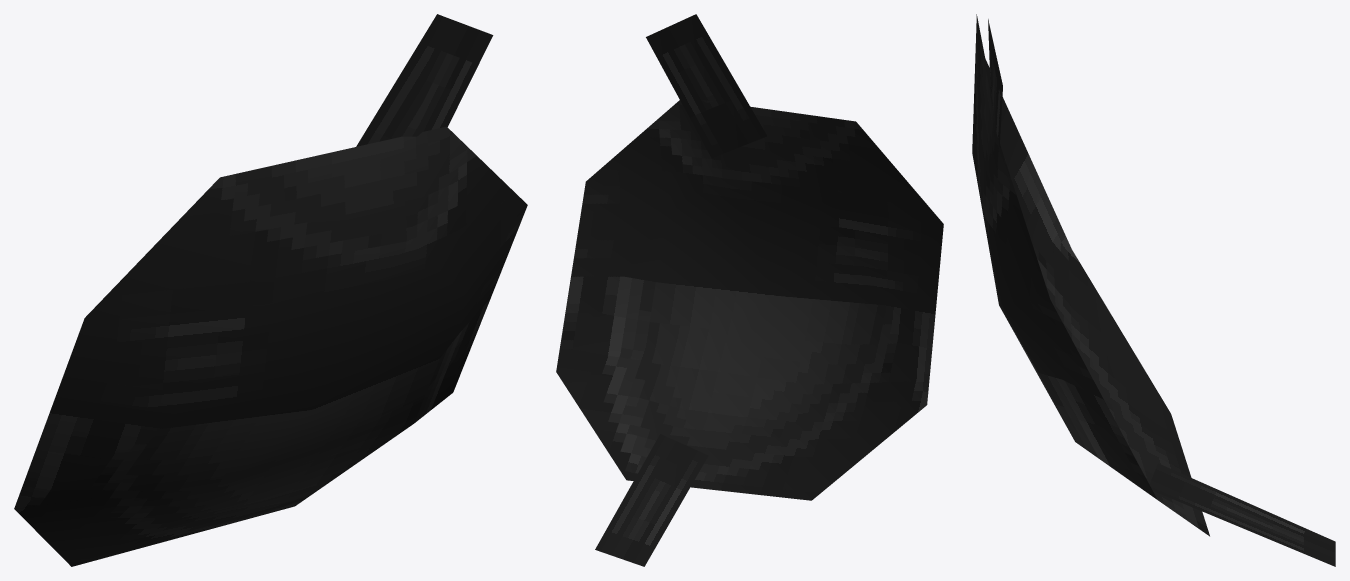
File: acc_patch_eye.dae
The picture shows the model from 3 angles, left to right: view 1: azimuth 30°, elevation 25°; view 2: azimuth 150°, elevation 25°; view 3: azimuth 270°, elevation 25°; orthographic projection. The views are drawn at different scales.
Visible parts, largest first — view 1: acc_patch_eye; view 2: acc_patch_eye; view 3: acc_patch_eye.
Boxes of the visible parts, x1=… form: acc_patch_eye: x1=14, y1=14, x2=527, y2=566; acc_patch_eye: x1=556, y1=14, x2=943, y2=566; acc_patch_eye: x1=972, y1=14, x2=1335, y2=566.
Bounding box in the file's own units: 8.64 × 10.32 × 5.91.
1 material, 1 textured.
